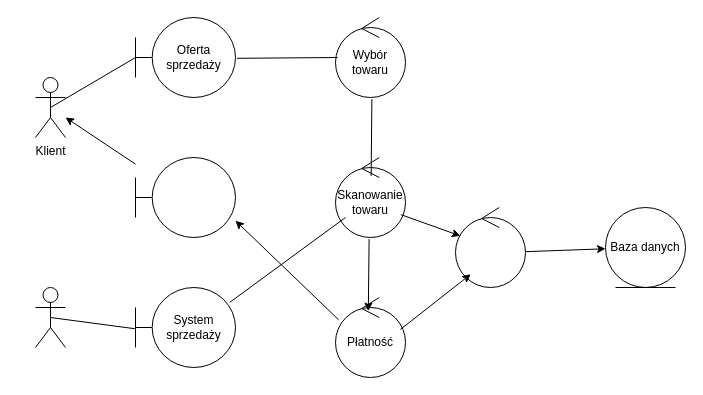
This 703x395 diagram has some shape labels left out. Each missing label, with the centre of its shape:
Rejestracja płatności w systemie: point 490,247
Sprzedawca: point 50,317
Towar: point 185,197
